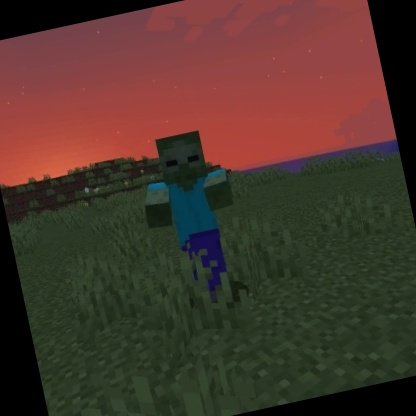zombie: (126, 123, 257, 319)
